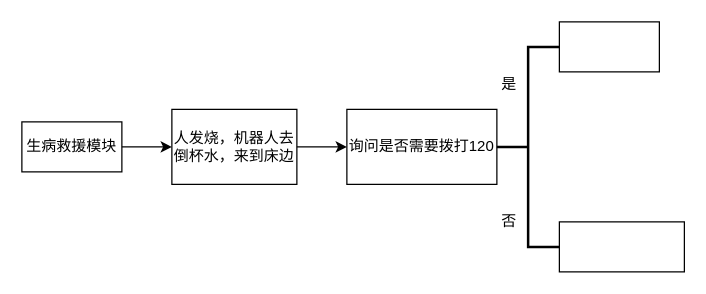
Some shapes in this 706 by 294 pixel diagram are drawn without their labels. Each missing label, with the centre of its shape:
人被送走: the point at 608,46
机器人回到原处: the point at 621,246
